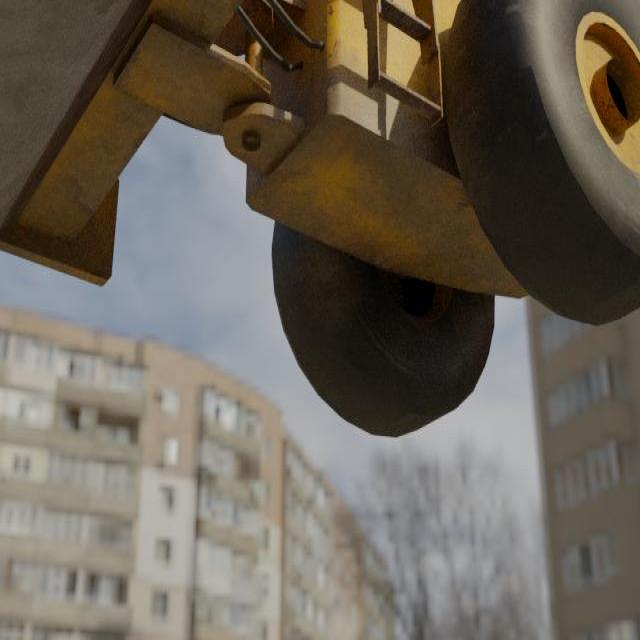Roller: (0, 0, 640, 439)
